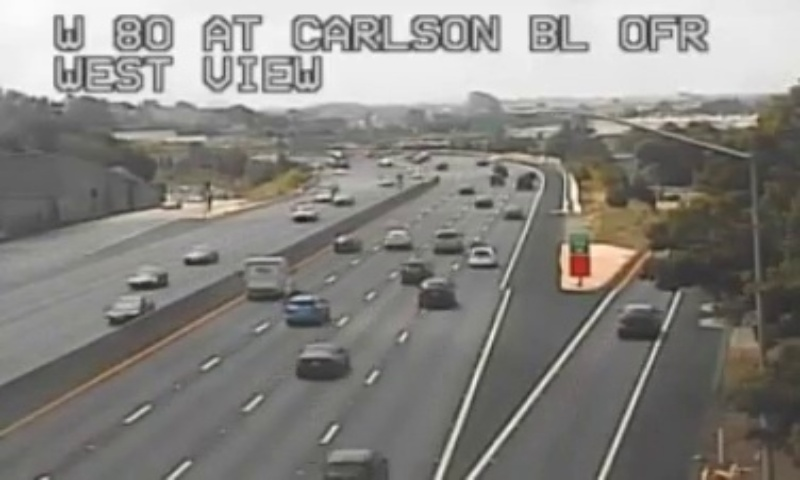car: (322, 449, 386, 480), (295, 342, 346, 378), (619, 304, 659, 341), (285, 294, 327, 324), (417, 277, 455, 306), (400, 259, 429, 285), (467, 246, 497, 268)
small-truck: (242, 256, 289, 297)
